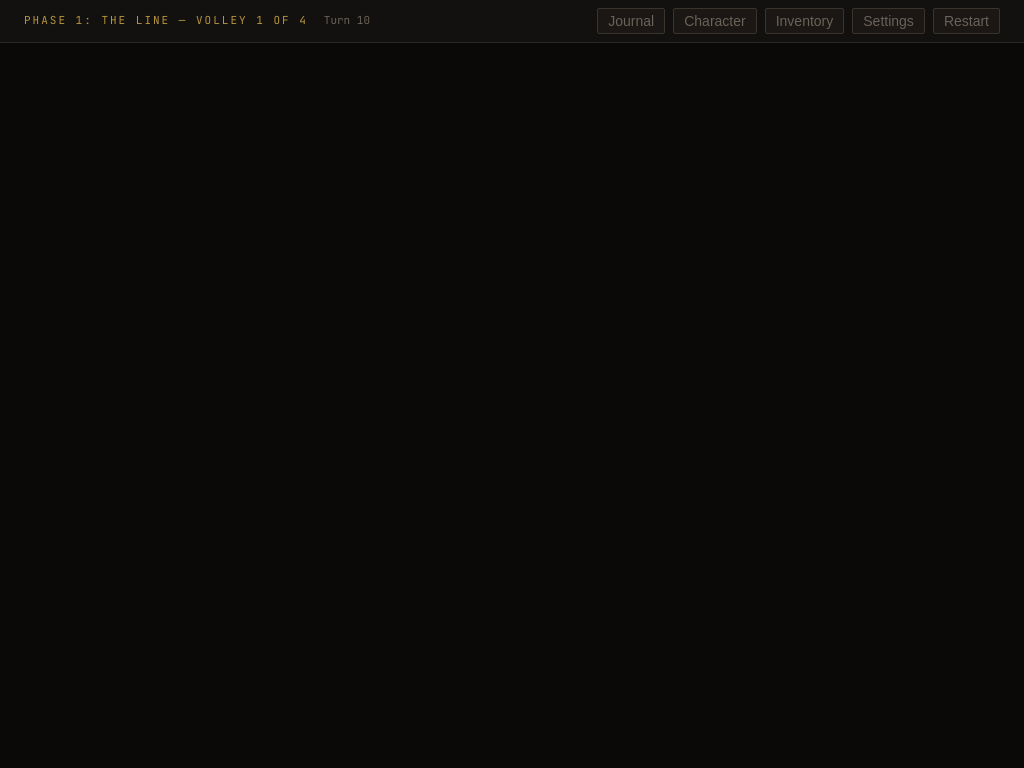
Test case: OpeningBeatPage › shows inventory panel when inventory button clicked
Click the button titled "Inventory" at [804, 21], box [765,8,844,34]
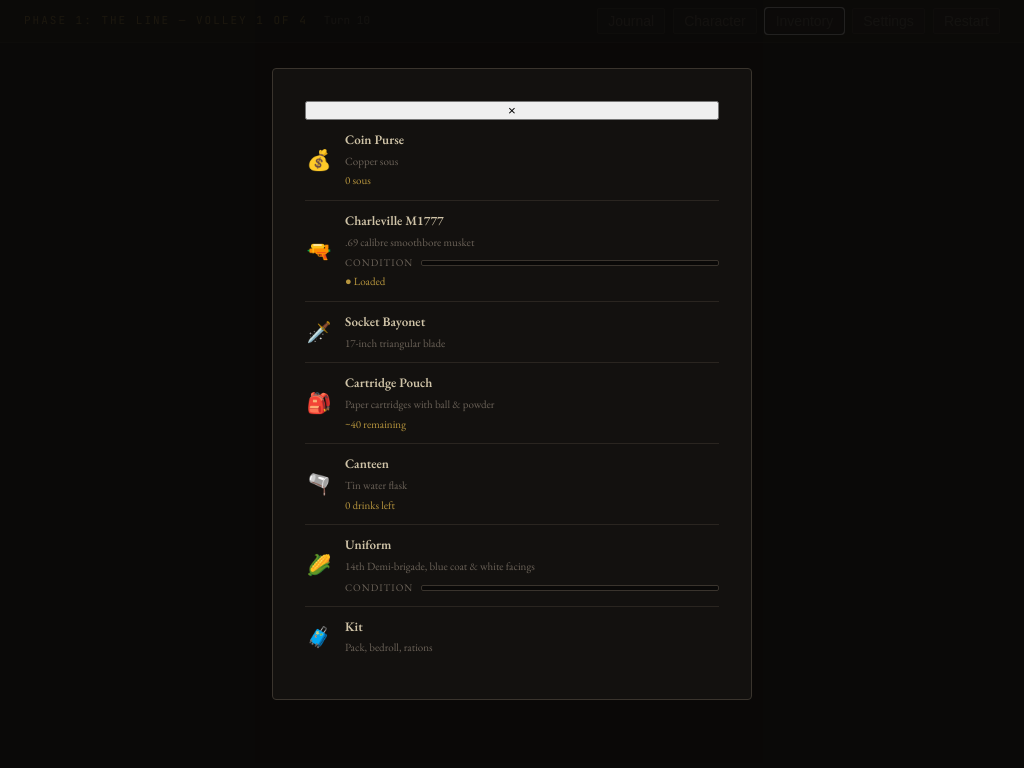
Result: the text "Charleville M1777" is shown at [345,212,444,229]
